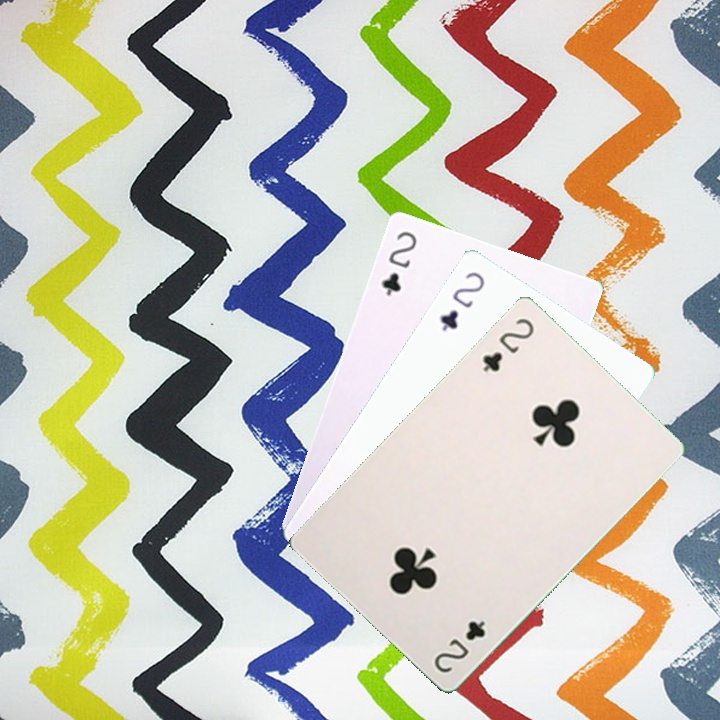2c: (478, 313, 537, 375), (435, 267, 488, 334), (430, 616, 488, 676), (377, 227, 420, 299)
